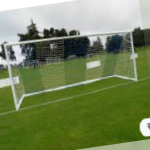goals: (4, 27, 140, 114)
